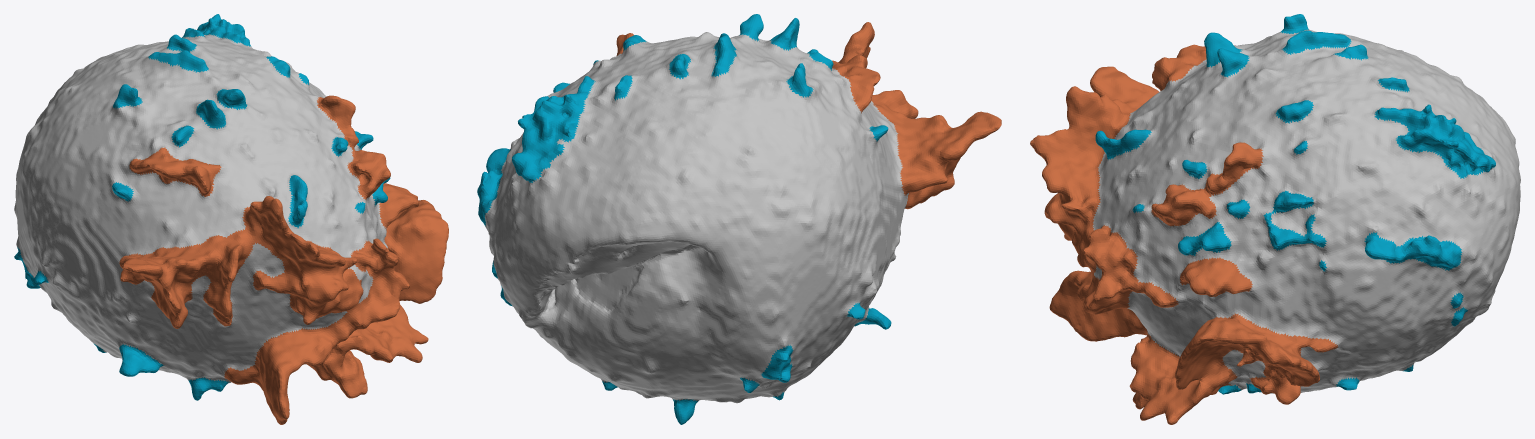
3 renders of one model, left to right at view 1: azimuth 30°, elevation 25°; view 2: azimuth 150°, elevation 25°; view 3: azimuth 270°, elevation 25°, orthographic. The views are drawn at different scales.
Bounding box in the file's own units: 162 × 135 × 174.
